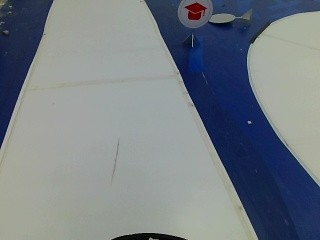school: (177, 0, 211, 29)
